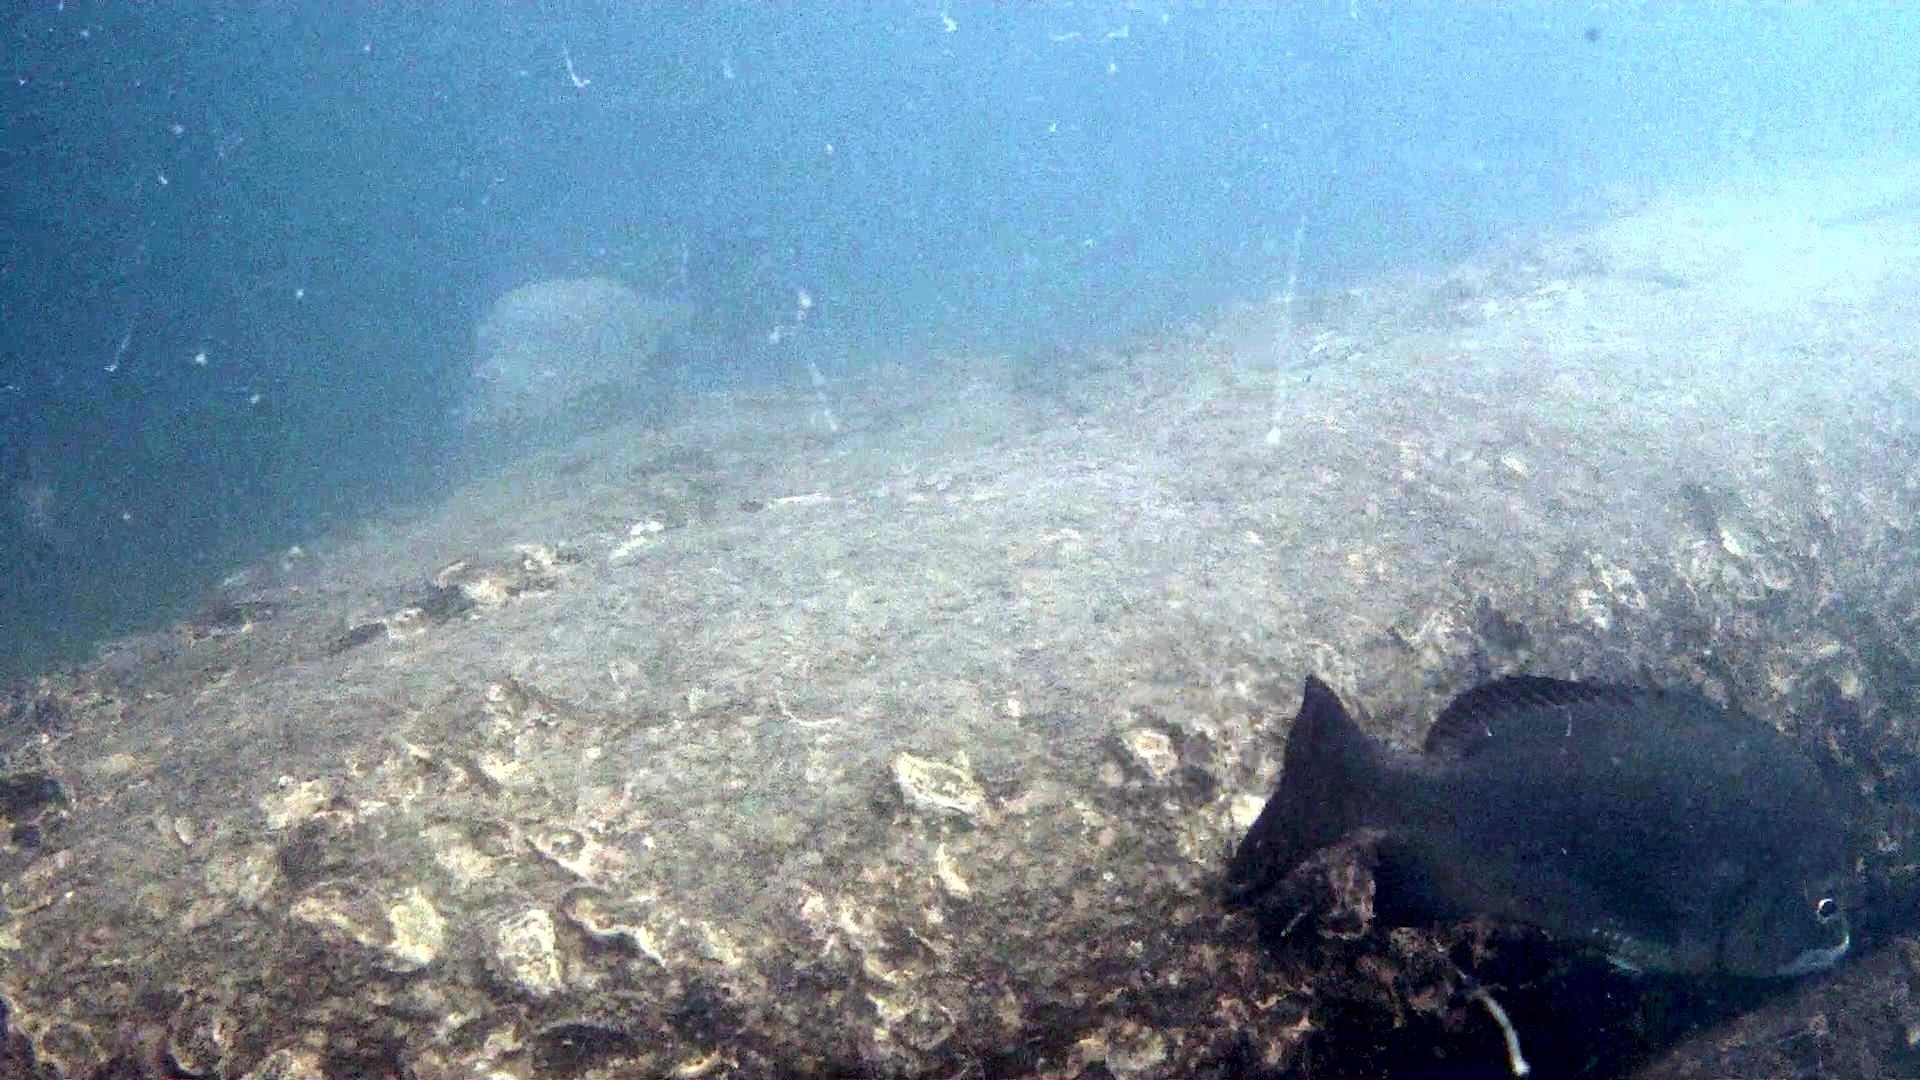acanthopagrus palmaris: (1210, 667, 1870, 1021)
